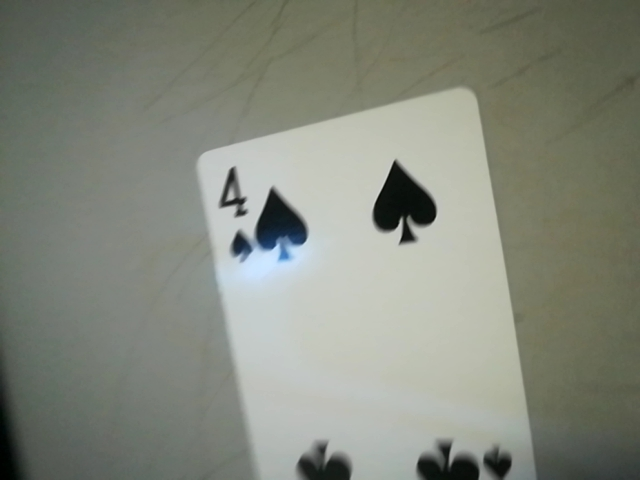ht 4: (204, 160, 259, 271)
